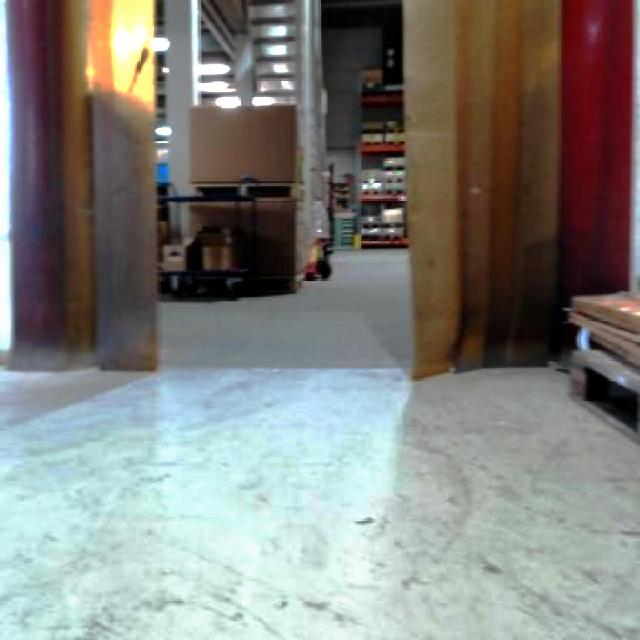ground: (0, 243, 638, 638)
pallet: (562, 282, 638, 635), (562, 285, 638, 458), (354, 65, 414, 245)
